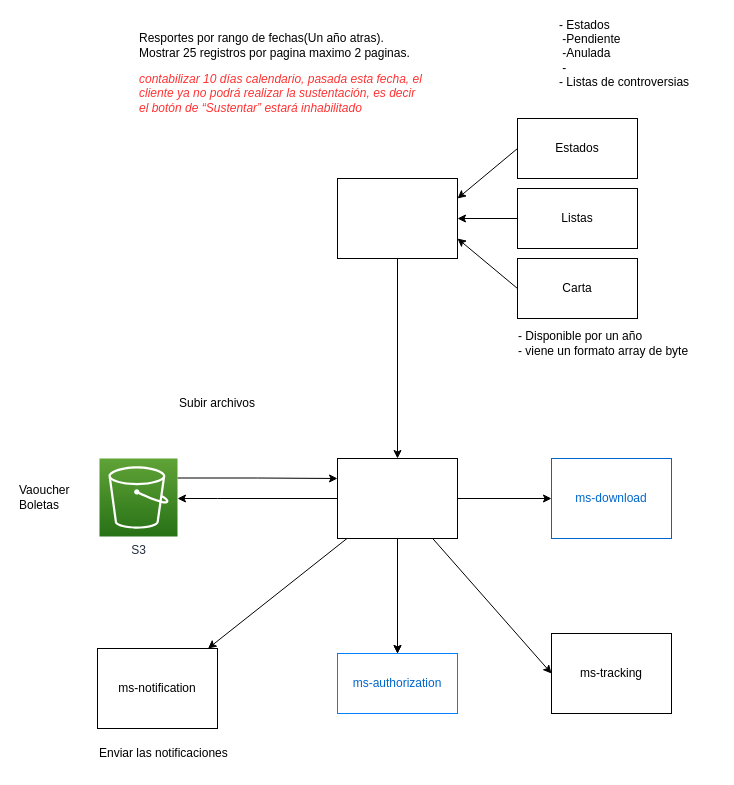
This 734x785 diagram has some shape labels left out. Each missing label, with the centre of its shape:
ms-controversias: the point at 397,498
NBO: the point at 397,218
